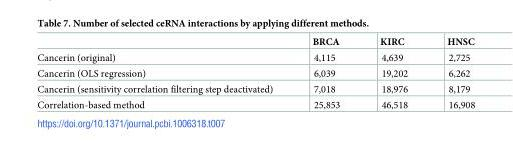table: (36, 36, 474, 109)
table column: (36, 36, 291, 109), (291, 36, 359, 109), (359, 36, 426, 109), (426, 36, 474, 109)
table column header: (36, 36, 474, 49)
table row: (36, 49, 474, 65), (36, 65, 474, 81), (36, 81, 474, 96), (36, 36, 474, 49), (36, 96, 474, 109)
